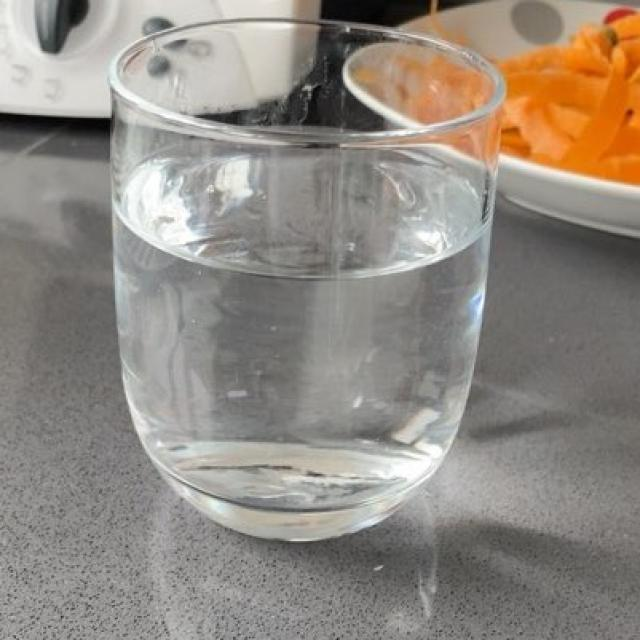water: (120, 139, 481, 534)
